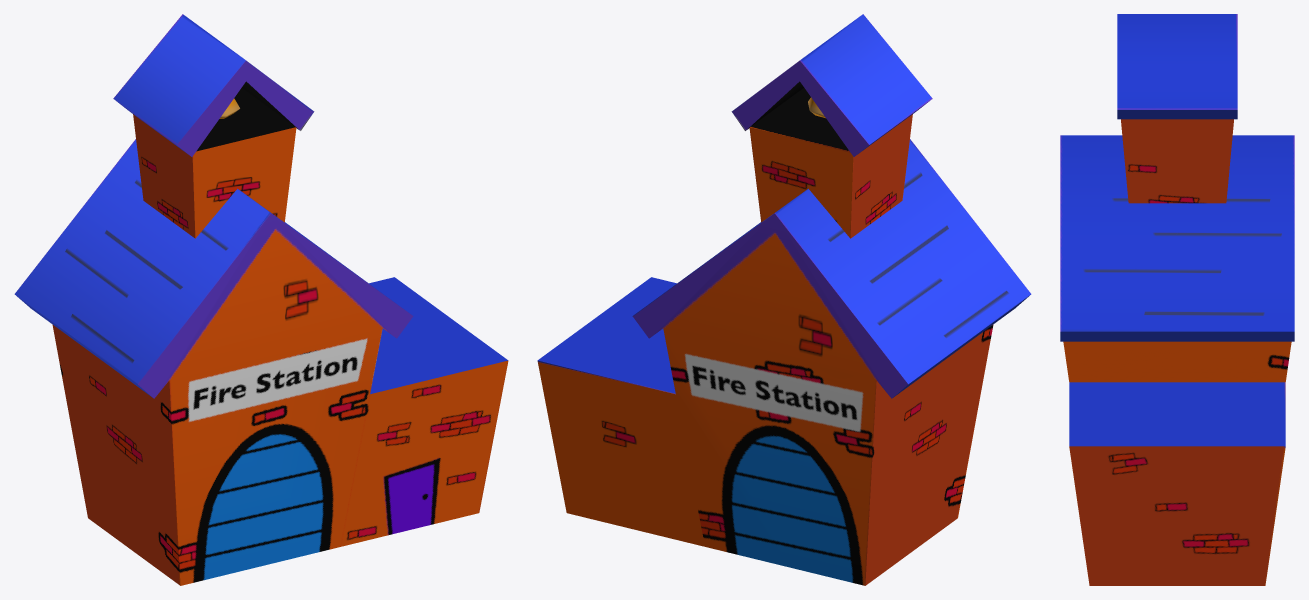
The model's file is Fire_Station.fbx.
3 renders of one model, left to right at view 1: azimuth 30°, elevation 25°; view 2: azimuth 150°, elevation 25°; view 3: azimuth 270°, elevation 25°, orthographic. The views are drawn at different scales.
Visible parts, largest first — view 1: polySurface6; view 2: polySurface6; view 3: polySurface6.
Boxes of the visible parts, <box> form: polySurface6: <box>14,14,508,585</box>; polySurface6: <box>537,14,1031,585</box>; polySurface6: <box>1060,14,1294,585</box>.
Size of the model in its own units: 31.29 by 39.44 by 17.78.
